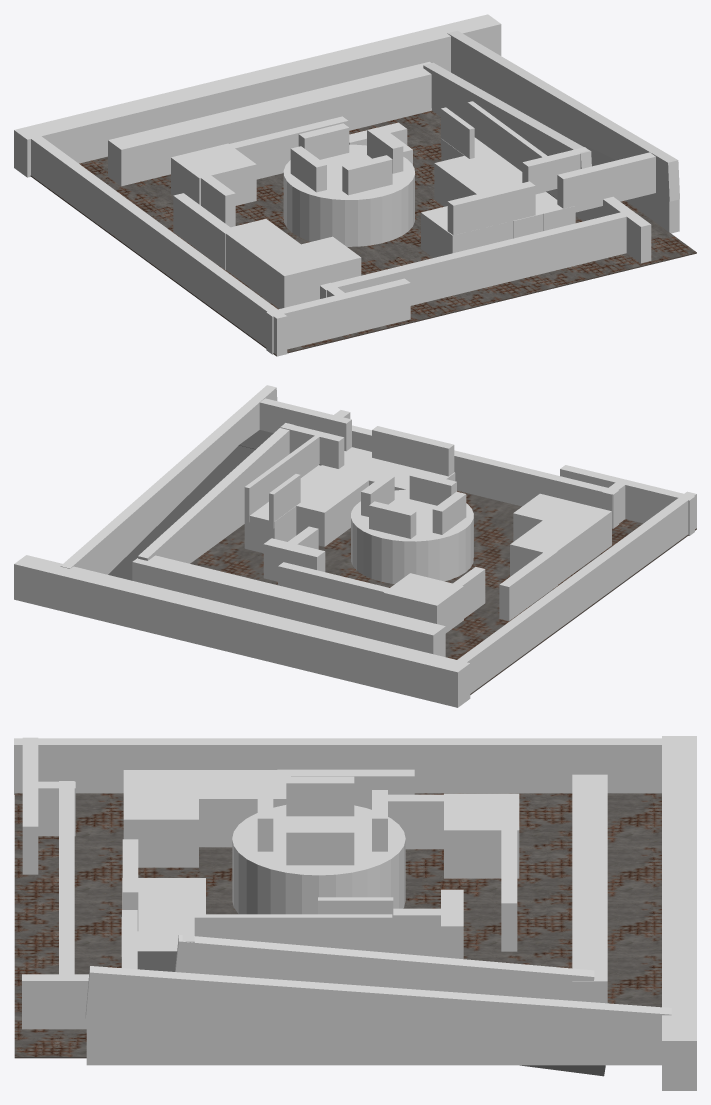
File: map.glb
The picture shows the model from 3 angles, top to bottom: view 1: azimuth 30°, elevation 25°; view 2: azimuth 150°, elevation 25°; view 3: azimuth 270°, elevation 25°; orthographic projection. The views are drawn at different scales.
Visible parts, largest first — view 1: Würfel.006, Cube, Würfel.004, Würfel.005, Würfel.002, Zylinder, Würfel.019, Würfel.008, Würfel, Würfel.018, Würfel.021, Würfel.011 (+18 smaller); view 2: Würfel.006, Cube, Würfel.005, Würfel.004, Zylinder, Würfel.019, Würfel.002, Würfel.021, Würfel.008, Würfel.022, Würfel.013, Würfel.018 (+21 smaller); view 3: Cube, Würfel.018, Würfel.005, Würfel.019, Würfel.006, Zylinder, Würfel.021, Würfel.004, Würfel.008, Würfel.001, Würfel.024, Würfel.013 (+22 smaller).
Boxes of the visible parts, x1,y1,x2,y2 form: Würfel.006: (14,14,501,177); Cube: (30,110,696,355); Würfel.004: (108,61,431,186); Würfel.005: (24,128,287,356); Würfel.002: (320,212,632,305); Zylinder: (283,144,414,246); Würfel.019: (447,30,679,201); Würfel.008: (226,219,327,308); Würfel: (266,278,410,354); Würfel.018: (451,36,679,233); Würfel.021: (423,62,591,168); Würfel.011: (557,152,655,212); Würfel.006: (14,555,470,707); Cube: (190,490,696,694); Würfel.005: (446,491,696,693); Würfel.004: (132,555,445,656); Zylinder: (351,489,473,584); Würfel.019: (60,385,277,568); Würfel.002: (352,425,618,528); Würfel.021: (138,423,294,561); Würfel.008: (510,501,611,584); Würfel.022: (296,451,391,546); Würfel.013: (383,573,463,633); Würfel.018: (74,449,234,574); Cube: (14,793,661,1058); Würfel.018: (86,1015,661,1065); Würfel.005: (14,738,695,794); Würfel.019: (85,966,671,1063); Würfel.006: (662,736,696,1090); Zylinder: (232,805,405,914); Würfel.021: (175,935,594,980); Würfel.004: (572,774,607,1003); Würfel.008: (123,770,290,847); Würfel.001: (22,974,605,1029); Würfel.024: (189,914,392,952); Würfel.013: (444,793,519,878).
Size of the model in its own units: 91.45 by 16.83 by 86.57.
Materials: 2 (1 with a texture image).
